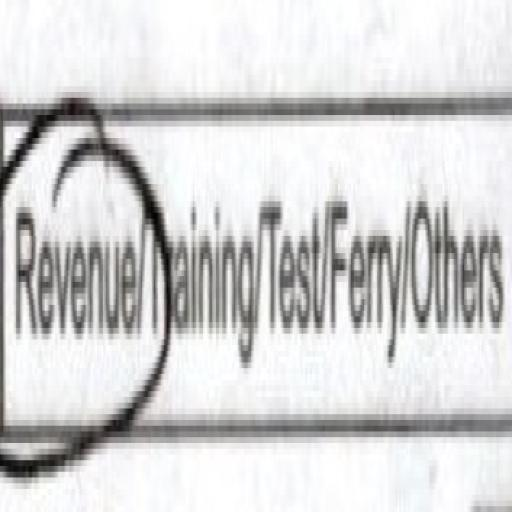check: (0, 17, 141, 512)
